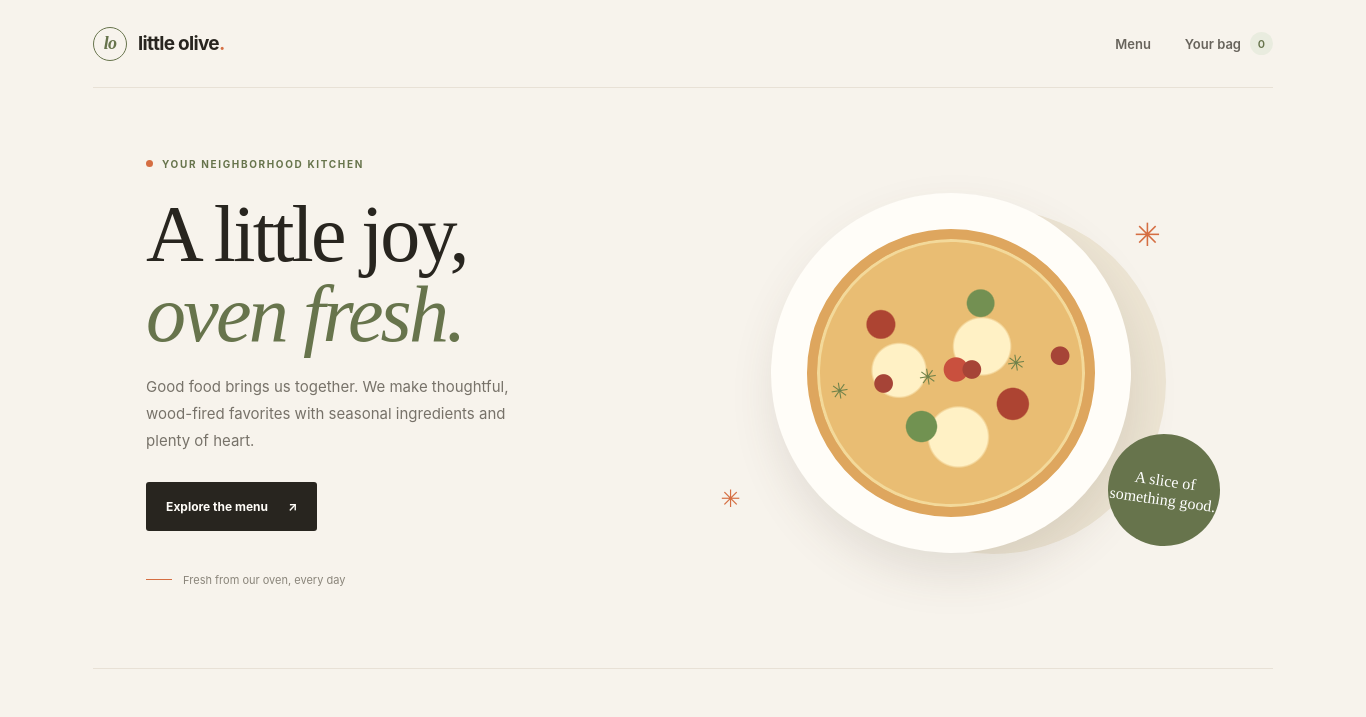
Test case: restaurant demo › renders the home page and tracks router page views once per route
Expected: the heading "A little joy,oven fresh." is shown, [146, 190, 467, 358]
Step 1. Click the link "Explore the menu ↗" → (232, 506), box [146, 482, 317, 531]
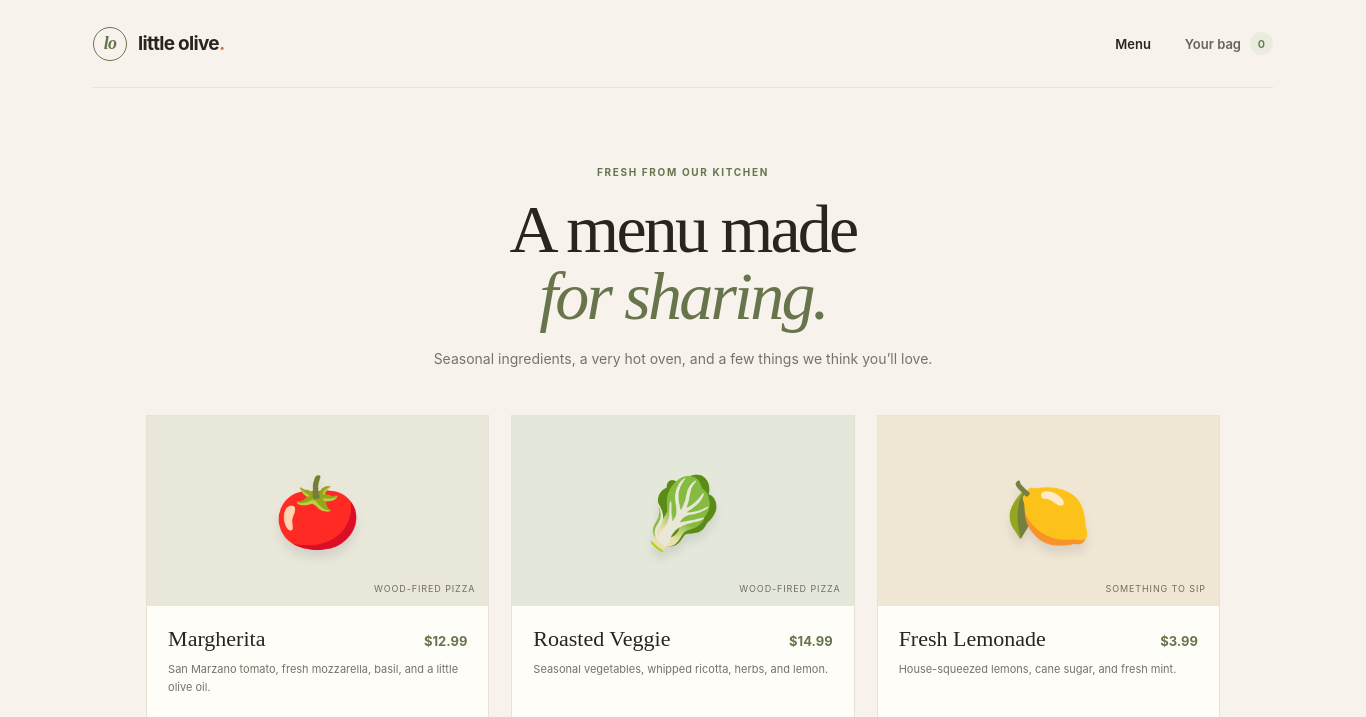
Now the heading "A menu made" is shown, box [510, 191, 856, 334]
